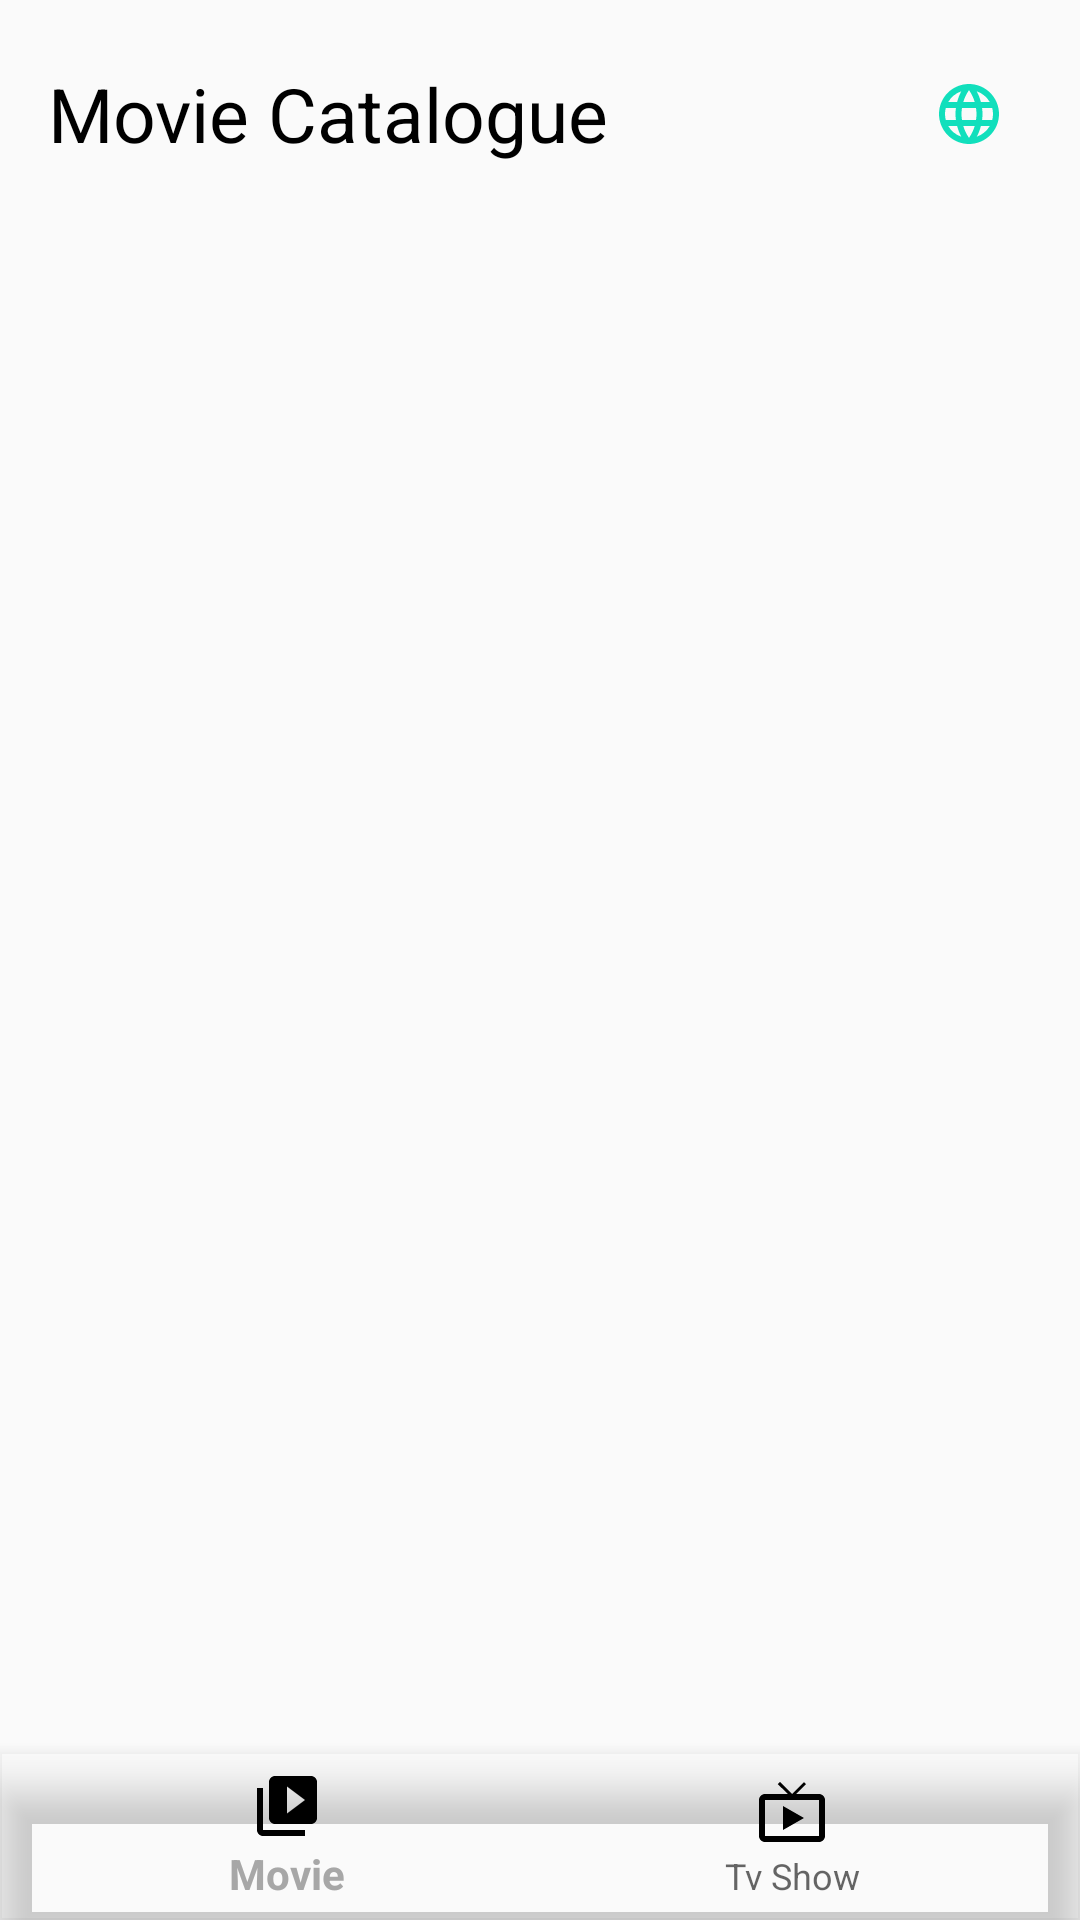

Screen size 1080 × 1920. Icon name, then its box in pixels as Rect(x1, y1, x2, y2):
language: Rect(939, 84, 999, 144)
